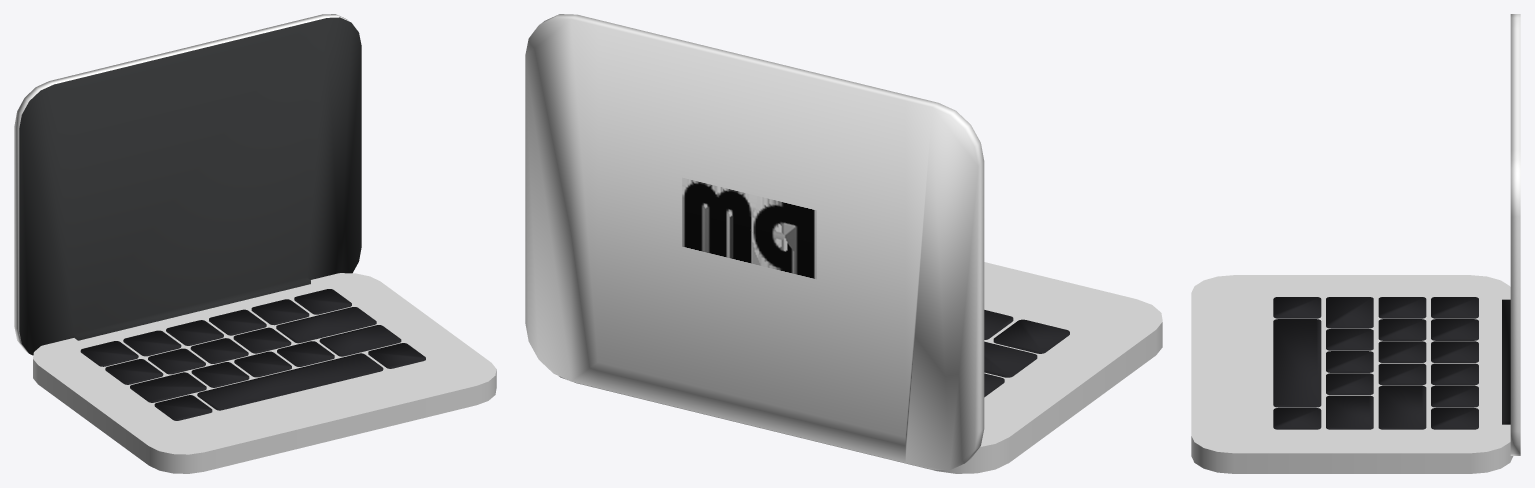
The model's file is laptop2.glb.
The picture shows the model from 3 angles, left to right: view 1: azimuth 30°, elevation 25°; view 2: azimuth 150°, elevation 25°; view 3: azimuth 270°, elevation 25°; orthographic projection. The views are drawn at different scales.
Parts seen in each view (by area): view 1: Cube.002, Cube, Cube.001; view 2: Cube.002, Cube, Cube.001; view 3: Cube, Cube.001, Cube.002.
Boxes of the visible parts, x1=… form: Cube.002: x1=14, y1=14, x2=361, y2=355; Cube: x1=33, y1=273, x2=496, y2=473; Cube.001: x1=80, y1=289, x2=425, y2=420; Cube.002: x1=525, y1=14, x2=984, y2=470; Cube: x1=559, y1=262, x2=1162, y2=473; Cube.001: x1=984, y1=310, x2=1069, y2=397; Cube: x1=1191, y1=275, x2=1513, y2=473; Cube.001: x1=1273, y1=297, x2=1478, y2=429; Cube.002: x1=1502, y1=14, x2=1520, y2=455.
Size of the model in its own units: 5.24 by 4.06 by 4.1.
4 materials, 1 textured.
